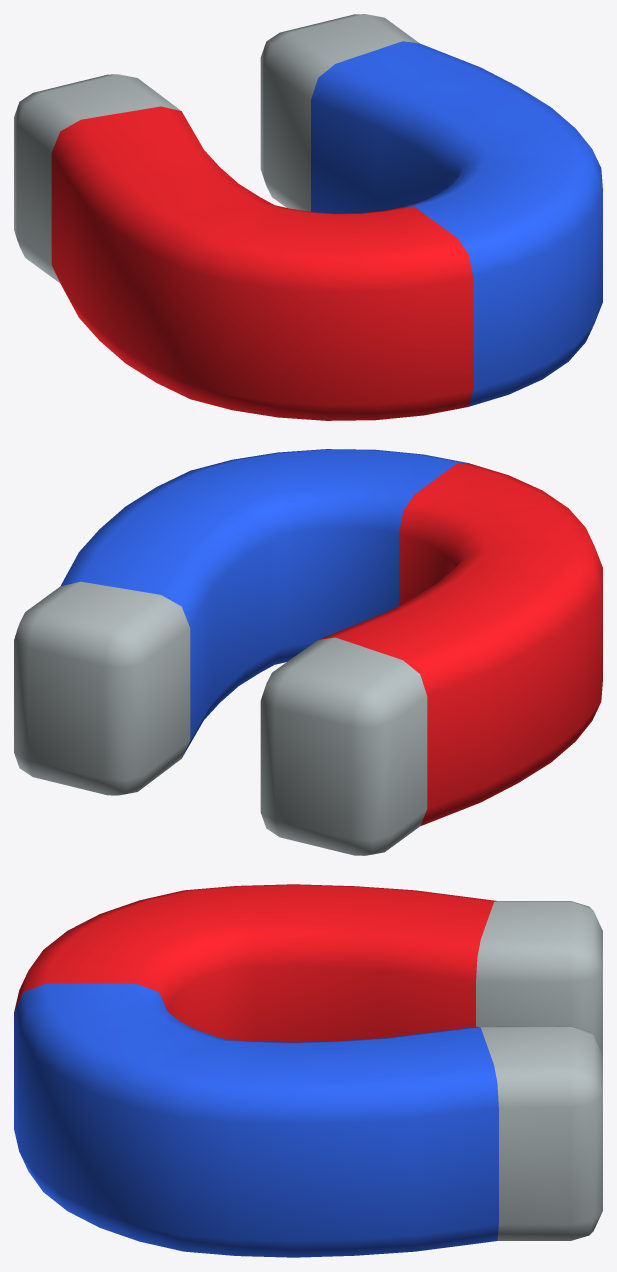
Rendered from Magnet.fbx.
The picture shows the model from 3 angles, top to bottom: view 1: azimuth 30°, elevation 25°; view 2: azimuth 150°, elevation 25°; view 3: azimuth 270°, elevation 25°; orthographic projection. The views are drawn at different scales.
Visible parts, largest first — view 1: Circle.027; view 2: Circle.027; view 3: Circle.027.
Boxes of the visible parts, x1,y1,x2,y2 form: Circle.027: (14,14,602,420); Circle.027: (14,449,602,855); Circle.027: (14,884,602,1257).
Size of the model in its own units: 2.77 by 1.01 by 3.08.
